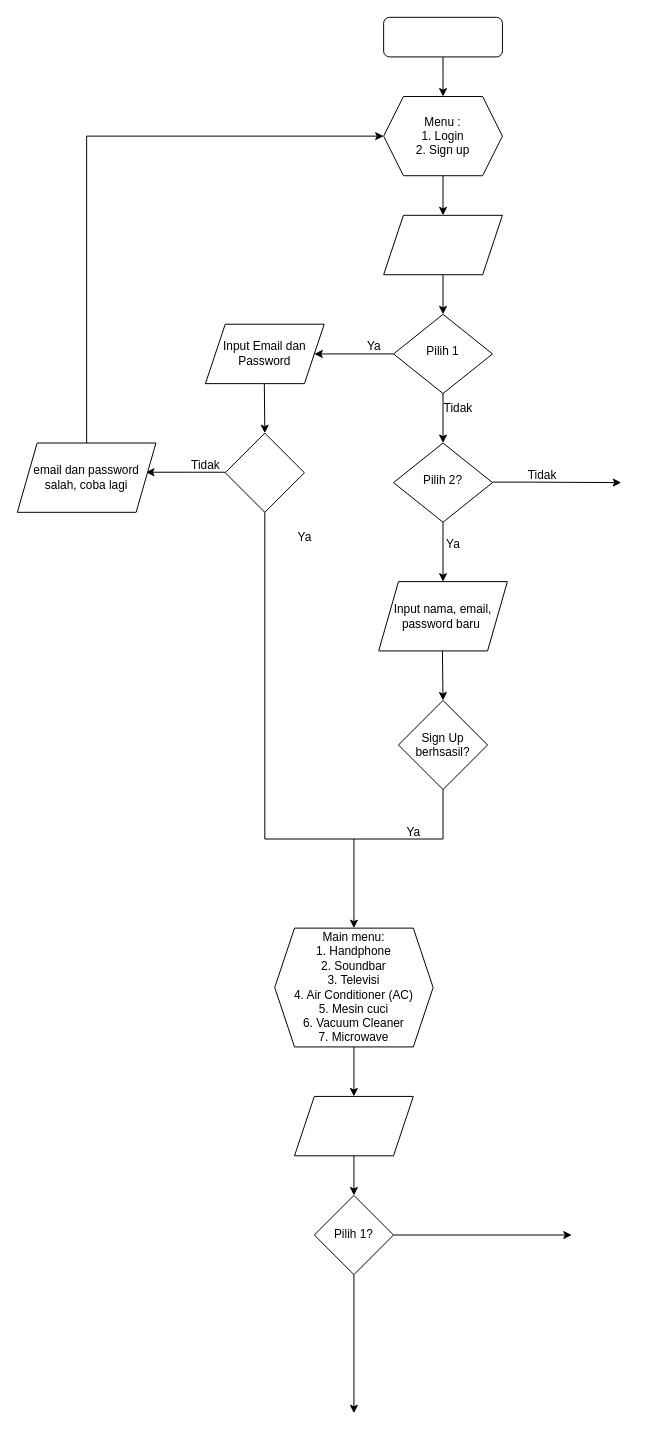
This 646x1438 diagram has some shape labels left out. The shapes that lost their labels are listed below. From the top down, each one's centre as x and y in pixels, then its label:
At (x=442, y=36): "Start".
At (x=442, y=244): "Input menu".
At (x=264, y=472): "Login berhasil?".
At (x=353, y=1125): "Input main menu".
